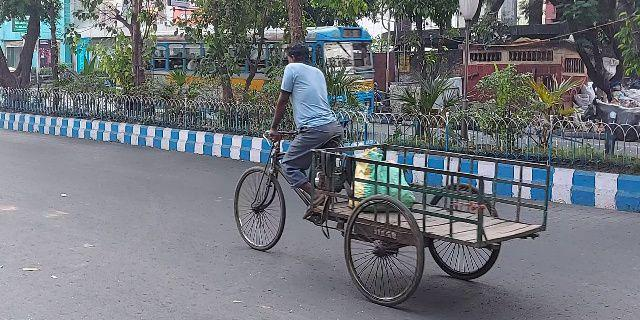Van: (225, 46, 546, 301)
